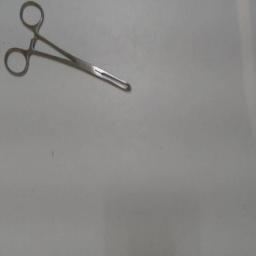Allis Tissue Forceps: (2, 1, 136, 97)
